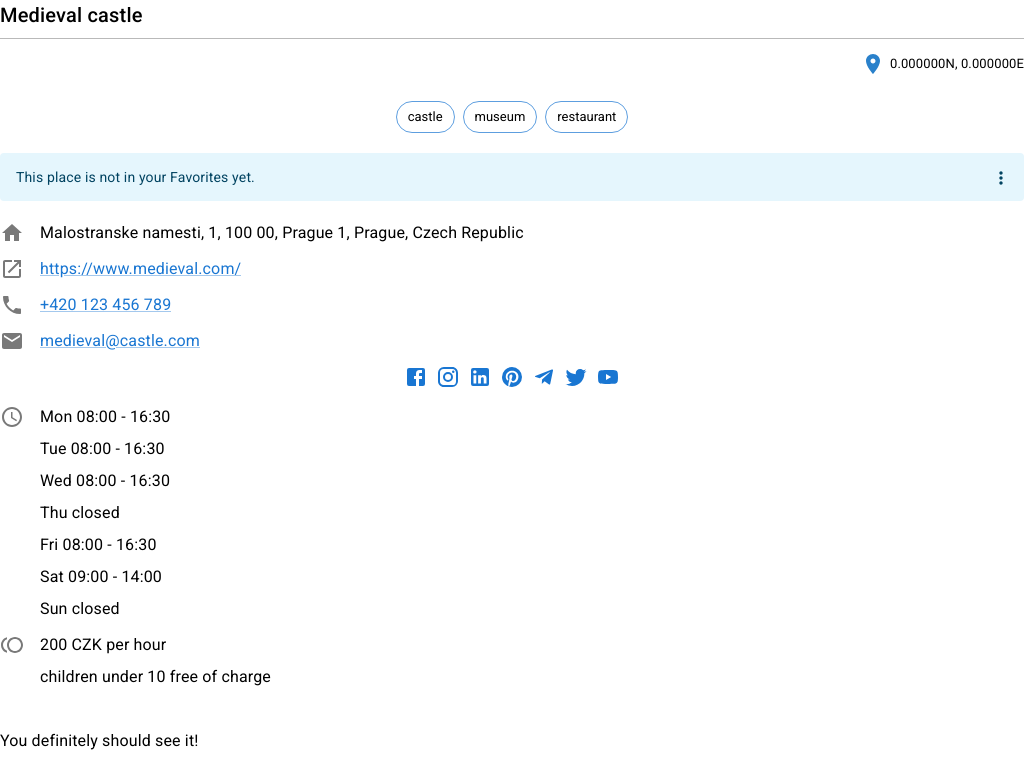
Test: <EntityPlaceContent /> › should Append place to the direction sequence state
The image size is (1024, 768).
Click the button named "Menu" at {"x": 1001, "y": 178}, box [986,163,1016,193]
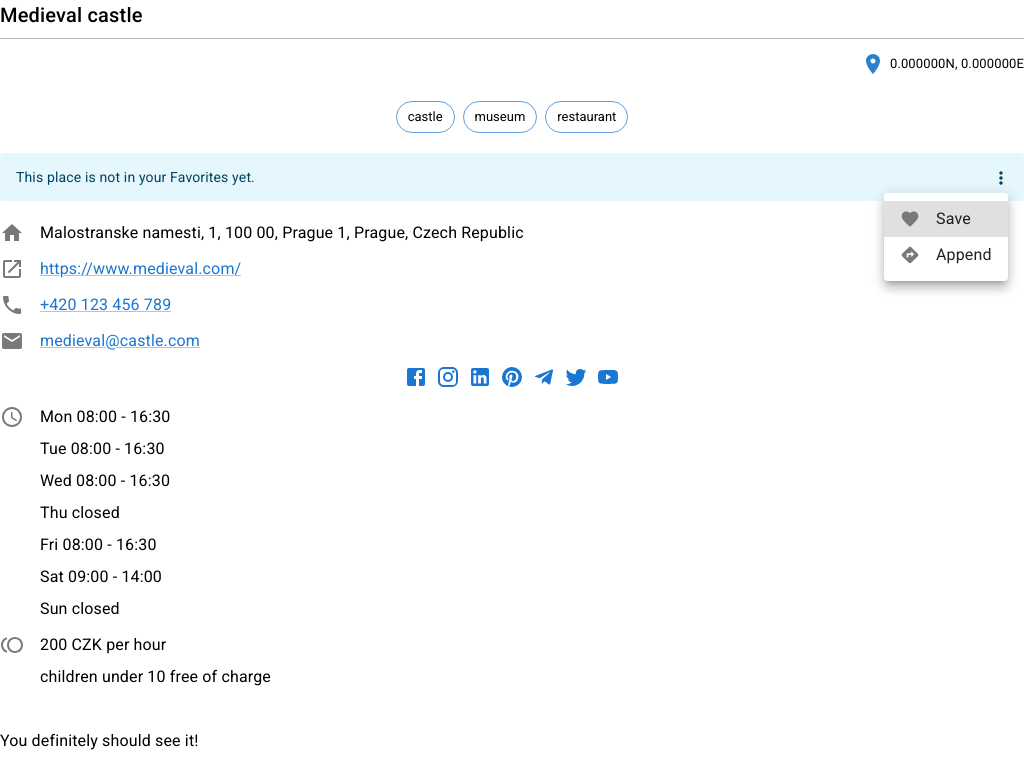
Click the menu item "Append" at {"x": 946, "y": 255}, box [900,245,992,265]
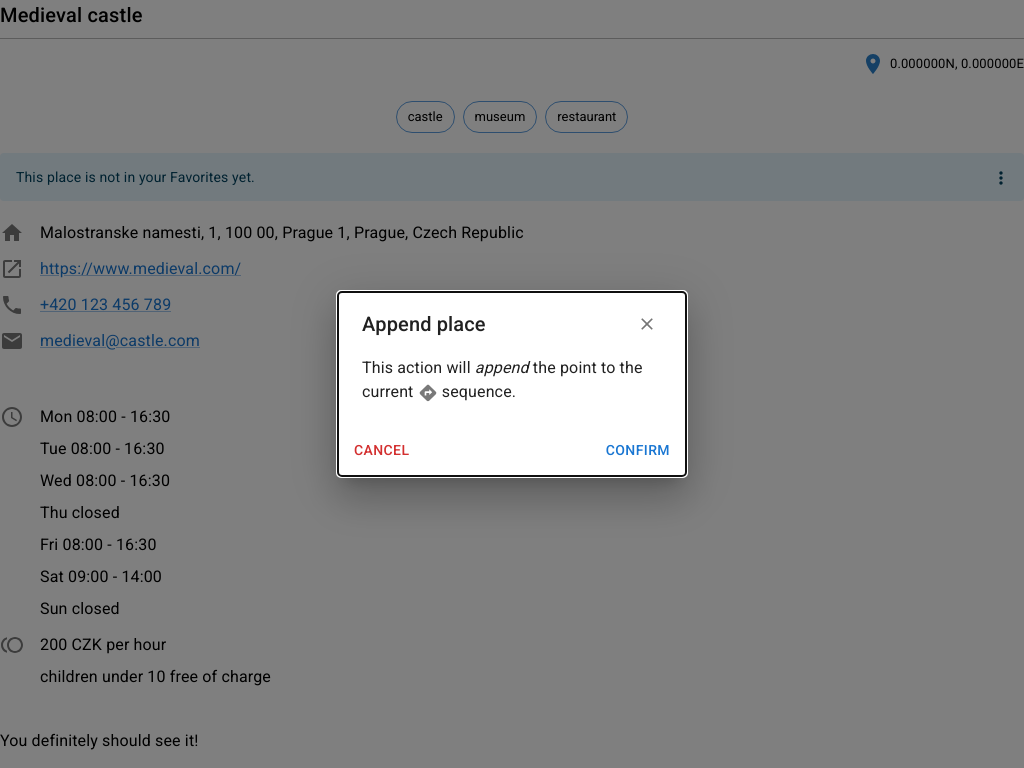
Click the button "Confirm" at {"x": 638, "y": 450}, box [598,432,678,468]
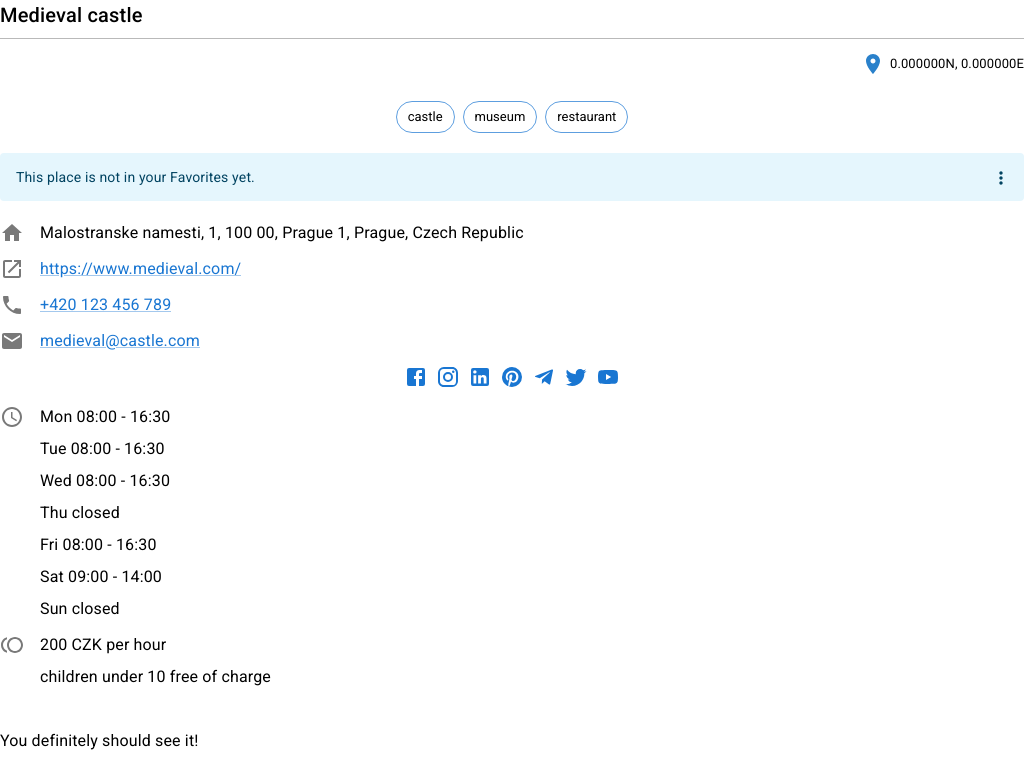
Expected: the dialog is gone
